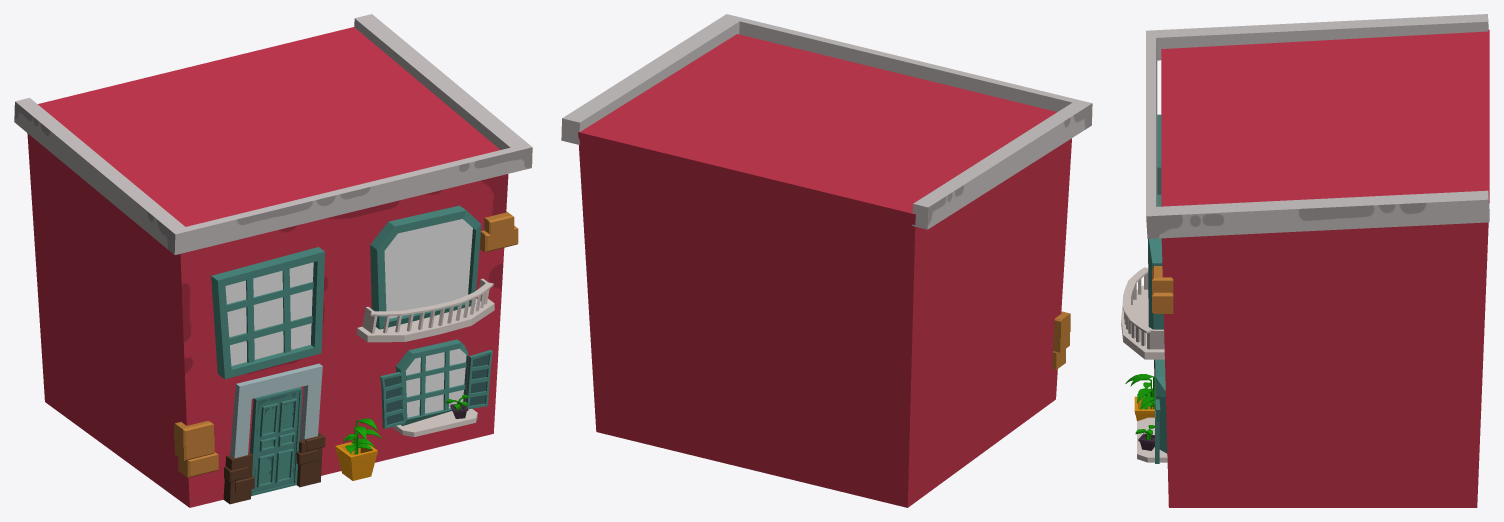
The model's file is casarosa.fbx.
3 renders of one model, left to right at view 1: azimuth 30°, elevation 25°; view 2: azimuth 150°, elevation 25°; view 3: azimuth 270°, elevation 25°, orthographic. The views are drawn at different scales.
Visible parts, largest first — view 1: Cube.033, Cube.058, Cube.075, Cube.067, Cube.070, Cube.057, Cube.080, Cube.068, Cube.065, Cube.066, Cube.117, Cube.071 (+4 smaller); view 2: Cube.033, Cube.058; view 3: Cube.033, Cube.058, Cube.065, Cube.066, Cube.070, Cube.067, Cube.117, Cube.071, Cube.079, Cube.078.
Boxes of the visible parts, x1,y1,x2,y2 form: Cube.033: (27, 27, 508, 507); Cube.058: (14, 14, 532, 254); Cube.075: (211, 247, 324, 379); Cube.067: (370, 205, 481, 329); Cube.070: (380, 339, 492, 428); Cube.057: (223, 363, 322, 504); Cube.080: (256, 398, 297, 487); Cube.068: (249, 387, 302, 495); Cube.065: (362, 278, 493, 333); Cube.066: (357, 298, 494, 342); Cube.117: (335, 418, 381, 480); Cube.071: (393, 409, 477, 436); Cube.033: (578, 34, 1071, 507); Cube.058: (561, 14, 1092, 229); Cube.033: (1161, 29, 1489, 507); Cube.058: (1146, 14, 1489, 238); Cube.065: (1122, 267, 1164, 349); Cube.066: (1121, 285, 1164, 359); Cube.070: (1155, 359, 1167, 463); Cube.067: (1148, 194, 1163, 329); Cube.117: (1125, 374, 1154, 421); Cube.071: (1137, 417, 1167, 462); Cube.079: (1152, 292, 1173, 313); Cube.078: (1152, 266, 1173, 293).
Size of the model in its own units: 899 by 729 by 754.
